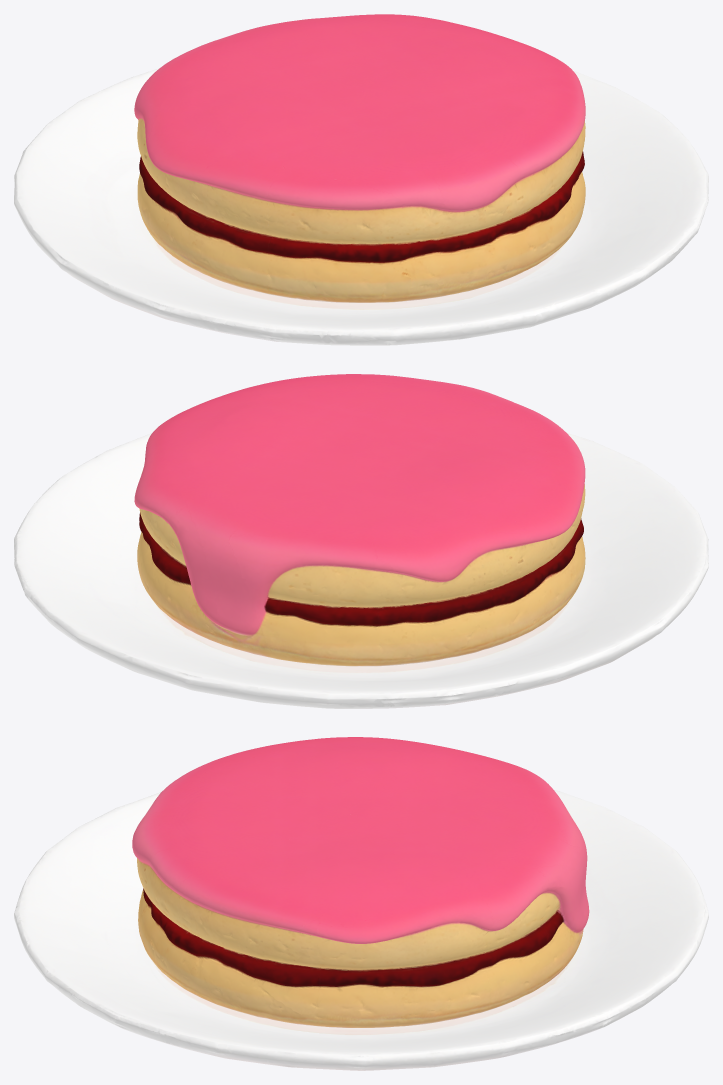
The model's file is Meshy_AI_napolitaine_cookie_0722035956_image-to-3d-texture-v1.glb.
The picture shows the model from 3 angles, top to bottom: view 1: azimuth 30°, elevation 25°; view 2: azimuth 150°, elevation 25°; view 3: azimuth 270°, elevation 25°; orthographic projection.
Bounding box in the file's own units: 1.9 × 0.4677 × 1.9.
1 material, 1 textured.
